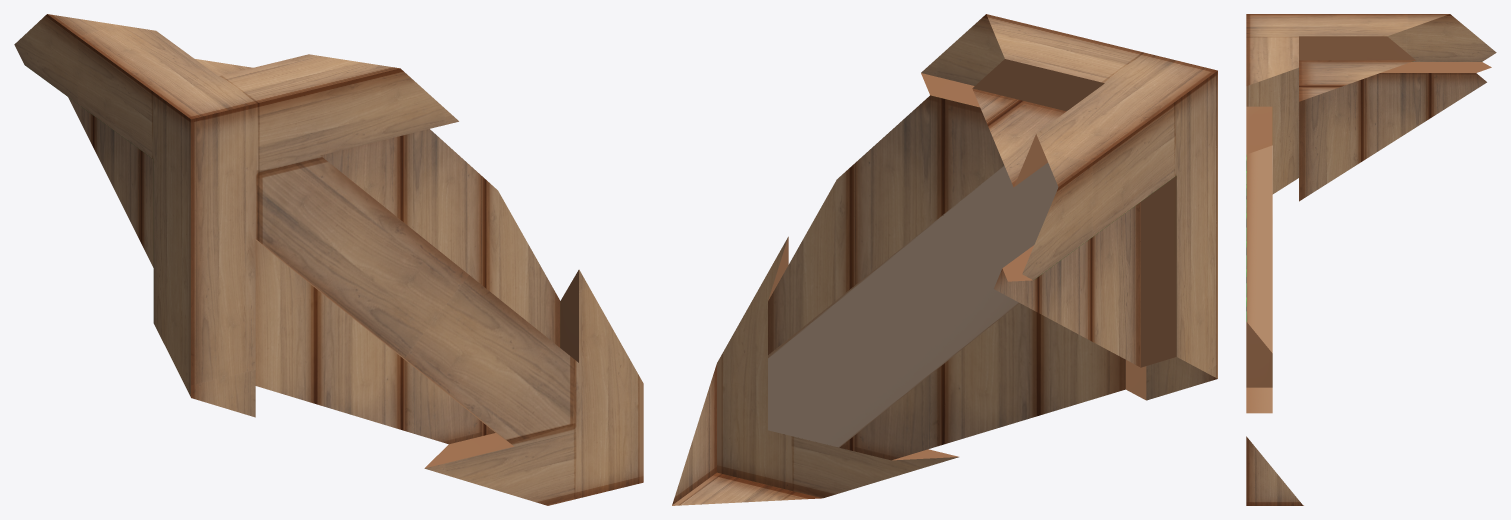
File: brokenbox4.FBX
The picture shows the model from 3 angles, left to right: view 1: azimuth 30°, elevation 25°; view 2: azimuth 150°, elevation 25°; view 3: azimuth 270°, elevation 25°; orthographic projection. The views are drawn at different scales.
Parts seen in each view (by area): view 1: Object001; view 2: Object001; view 3: Object001.
Boxes of the visible parts, x1,y1,x2,y2 form: Object001: (14,14,643,505); Object001: (672,14,1217,505); Object001: (1246,14,1496,505).
Size of the model in its own units: 1.4 by 1.4 by 0.9476.
